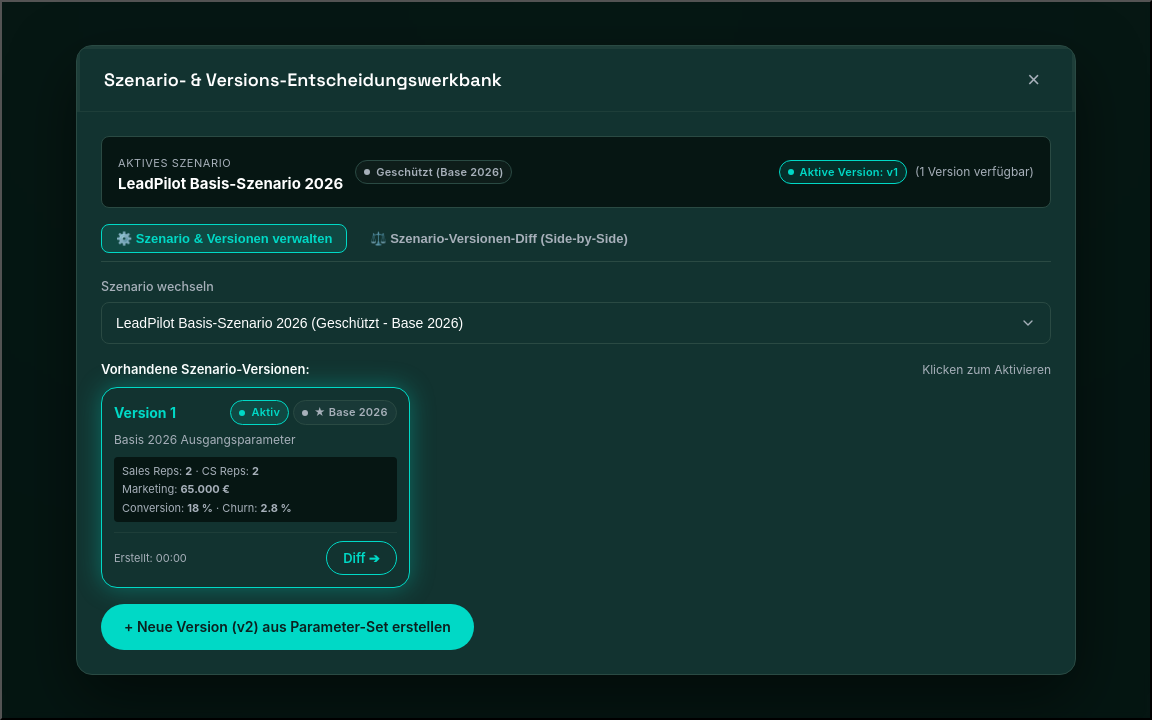
Test: ScenarioManagerModal (characterization) › Tab-Wechsel zwischen Verwalten und Diff funktioniert
Click the button with test id "scenario-diff-tab" at (499, 239), box [355,224,643,253]
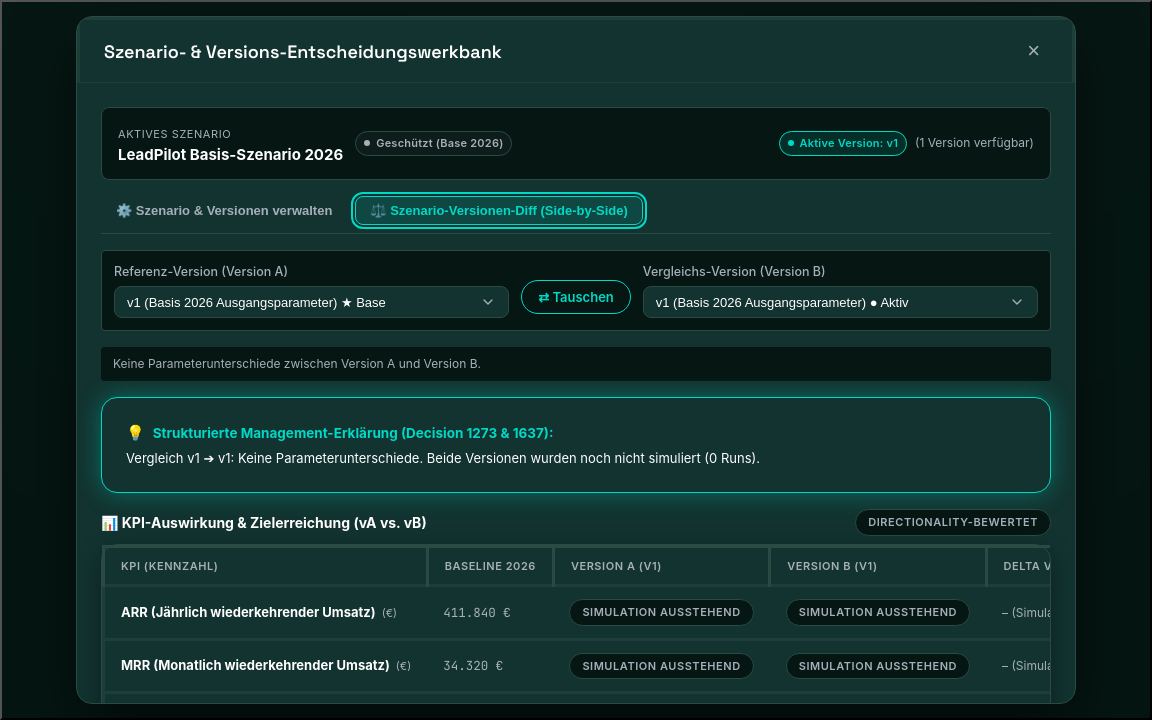
Result: the text "Referenz-Version (Version A)" is shown at [114,264,288,278]
Click the button with test id "scenario-manage-tab" at (224, 210), box [101,196,347,224]
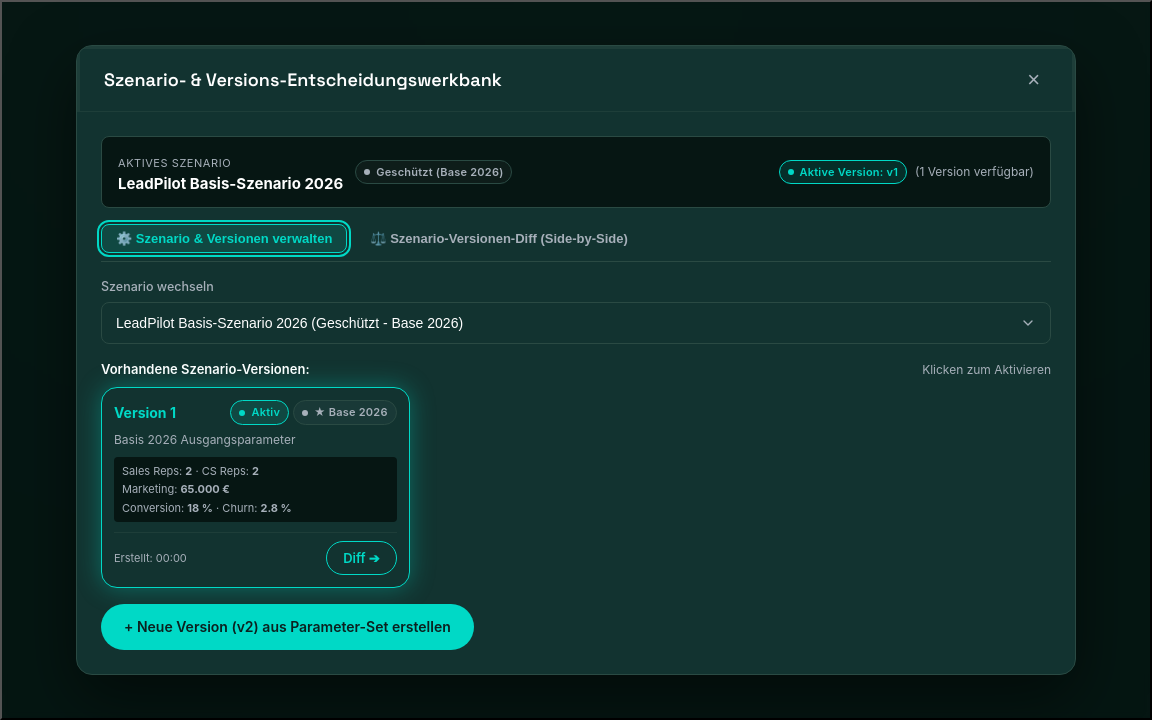
Result: the text "Szenario wechseln" is shown at [101,279,214,294]
